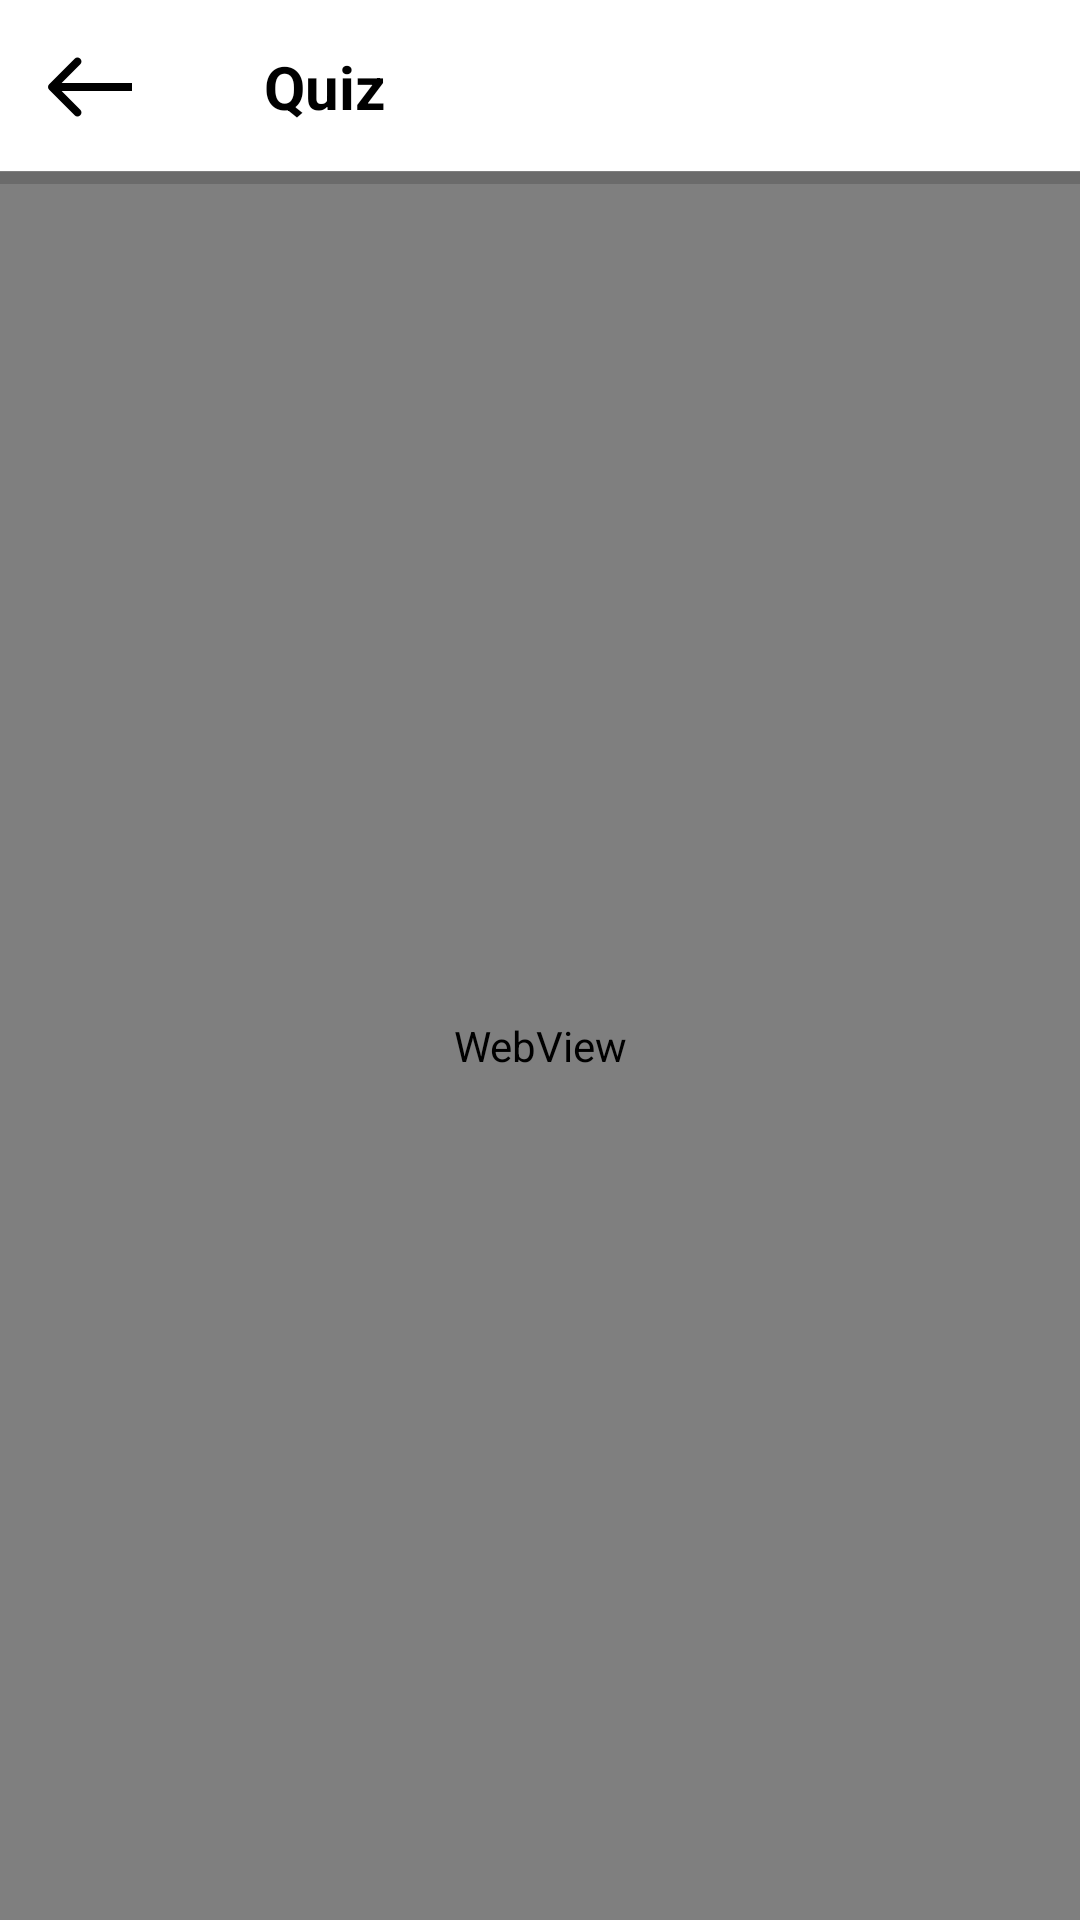

Icon click points for this 1080px x 1920px phone screenshot, format (x,y):
arrow back: (90,87)
